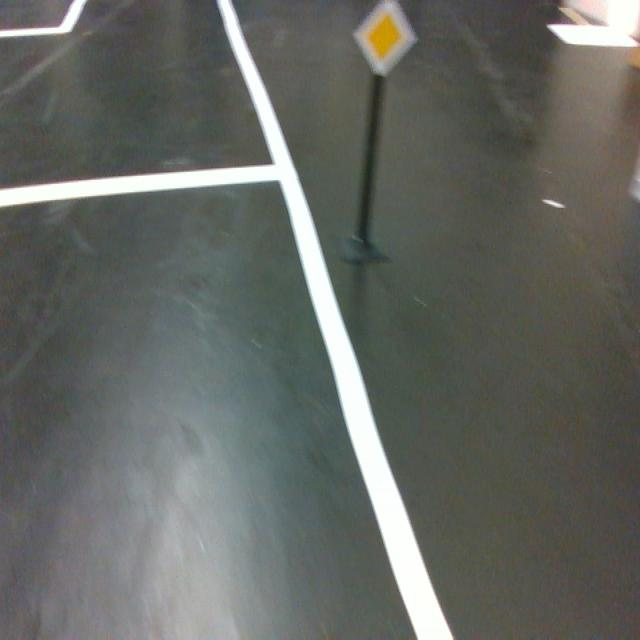priority-sign: (350, 0, 419, 78)
